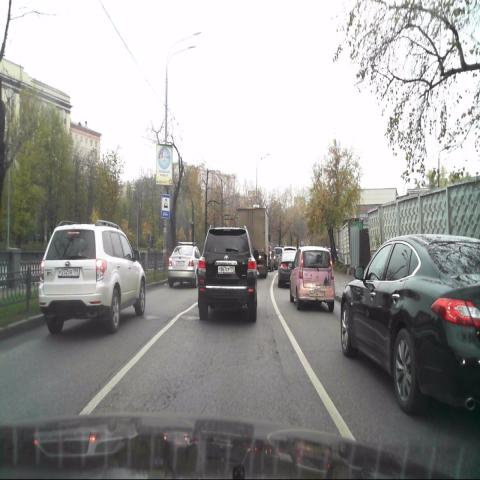7_5: (161, 194, 171, 217)
